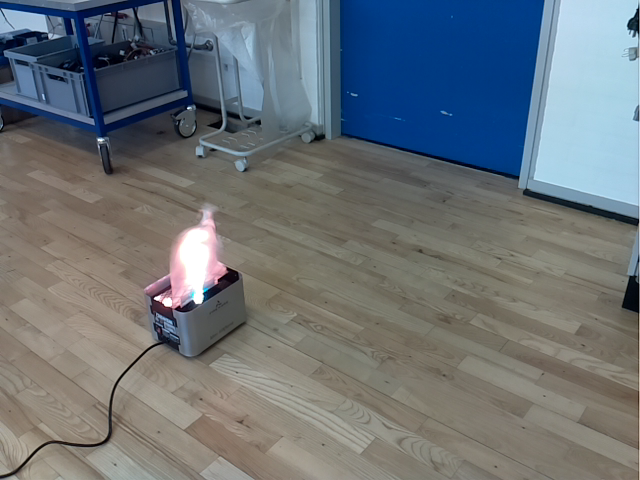fire: (168, 208, 228, 309)
